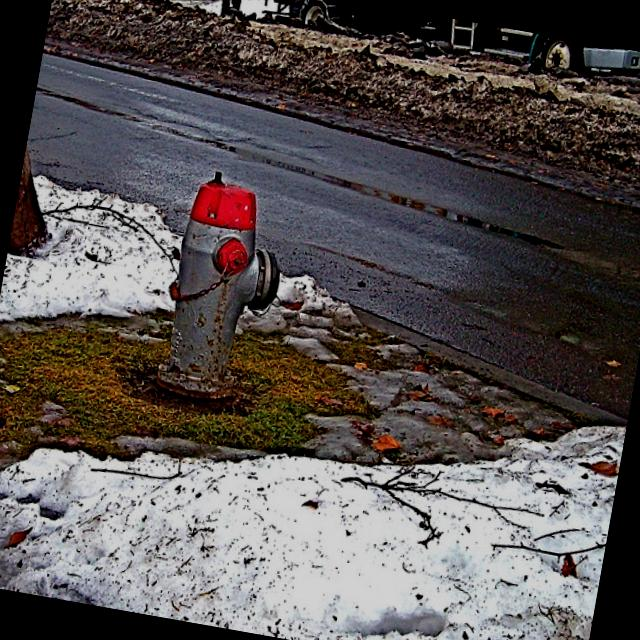Vehicle: (241, 0, 640, 88)
